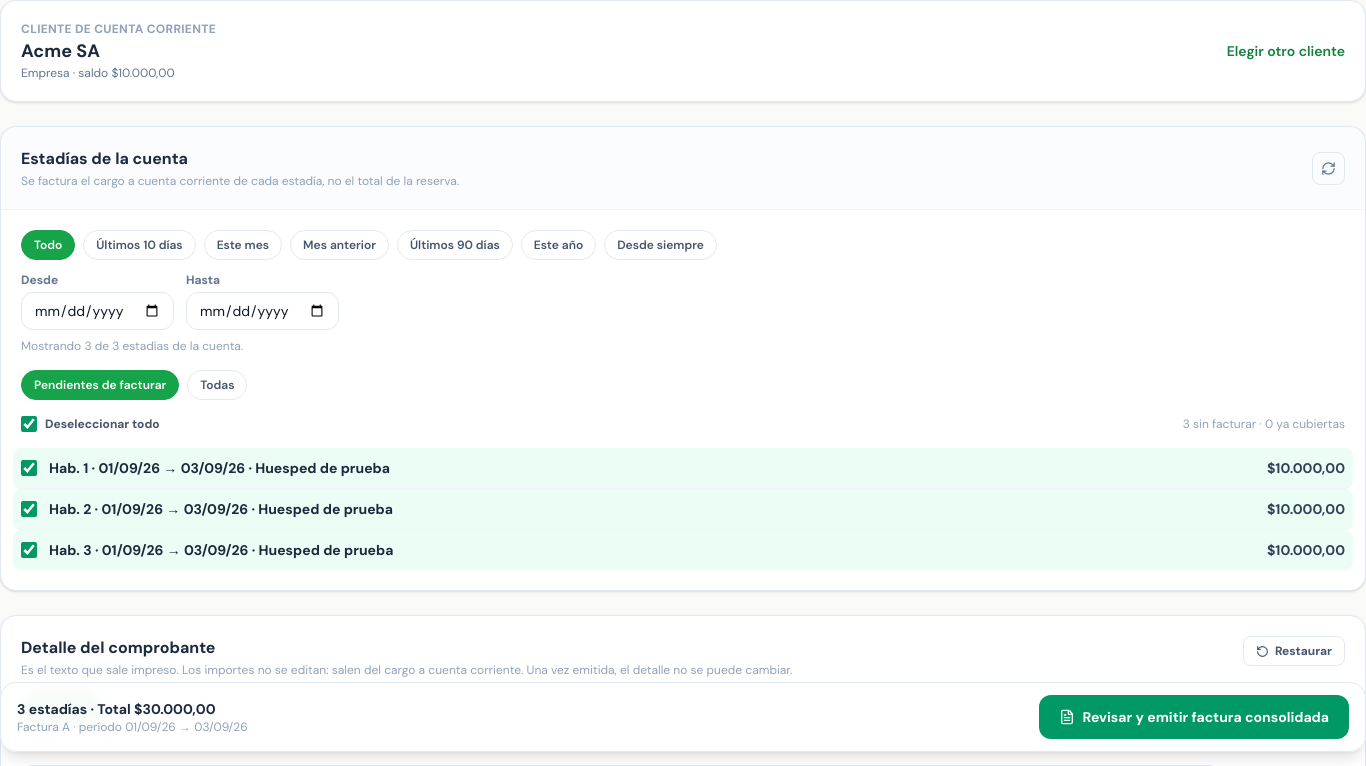
Test case: ConsolidadaClient › shift+click sobre el propio checkbox también extiende (mismo camino que el Espacio del teclado)
This screenshot has width=1366, height=766.
Expected: the checkbox named "Incluir estadía de habitación 1" is checked, [21,460,37,476]
Click the checkbox named "Seleccionar todas las estadías". click: [29, 424]
box: [21,416,37,432]
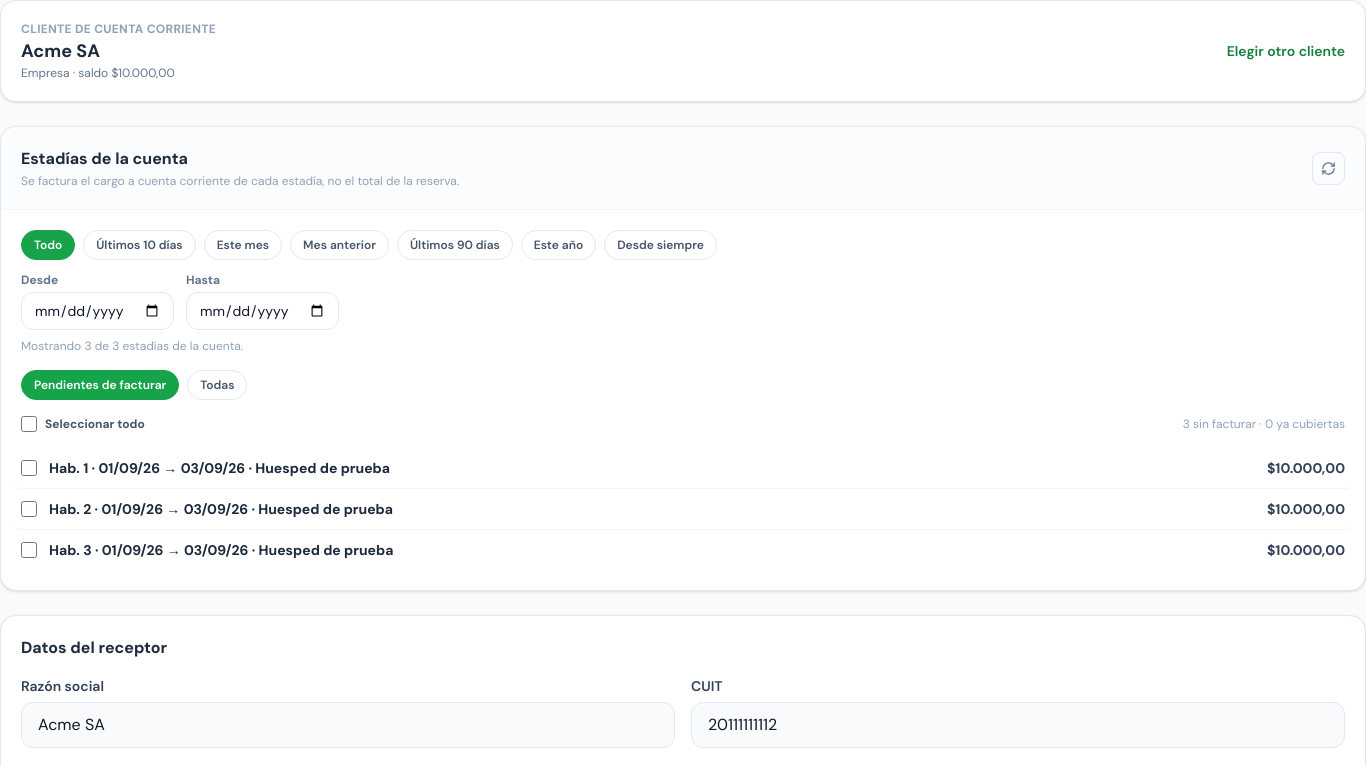
Click the checkbox named "Incluir estadía de habitación 1". click: [29, 468]
box: [21,460,37,476]
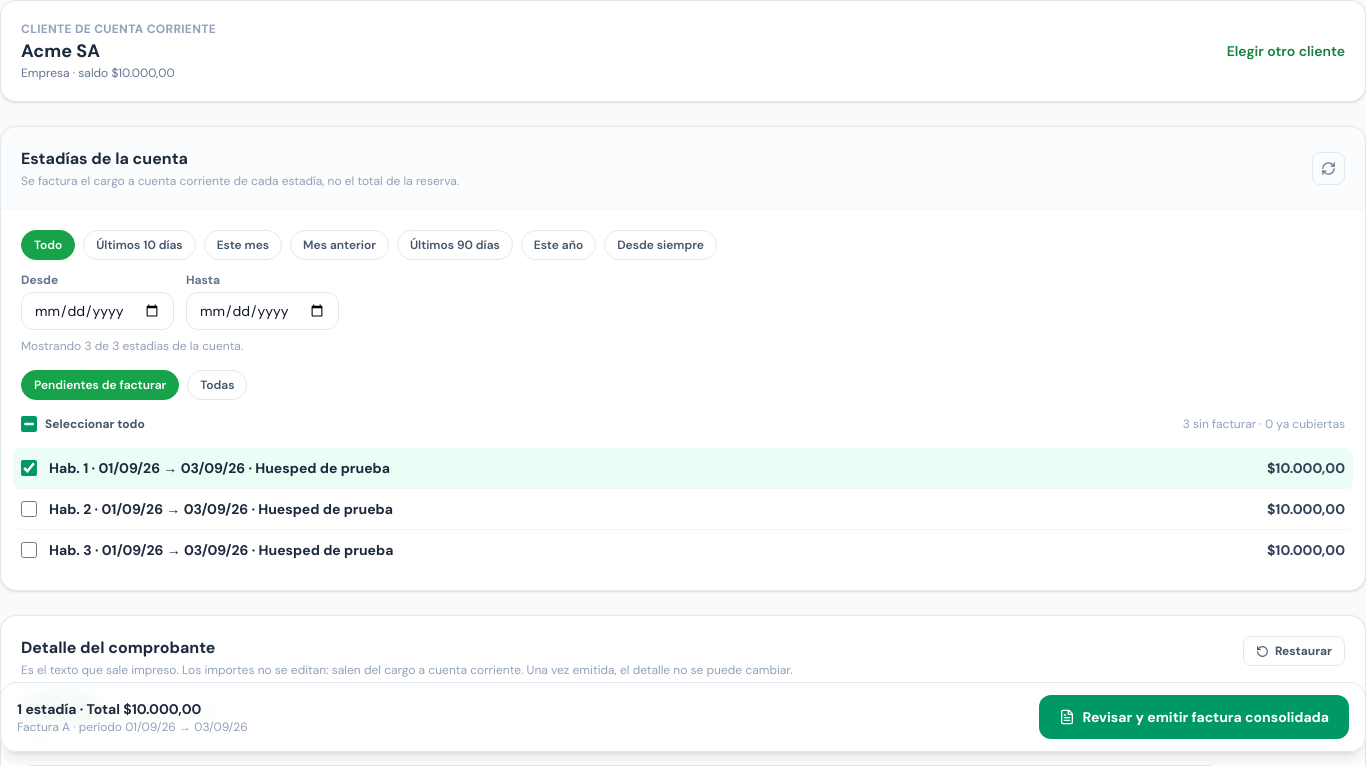
Click the checkbox named "Incluir estadía de habitación 3". click: [29, 550]
box: [21,542,37,558]
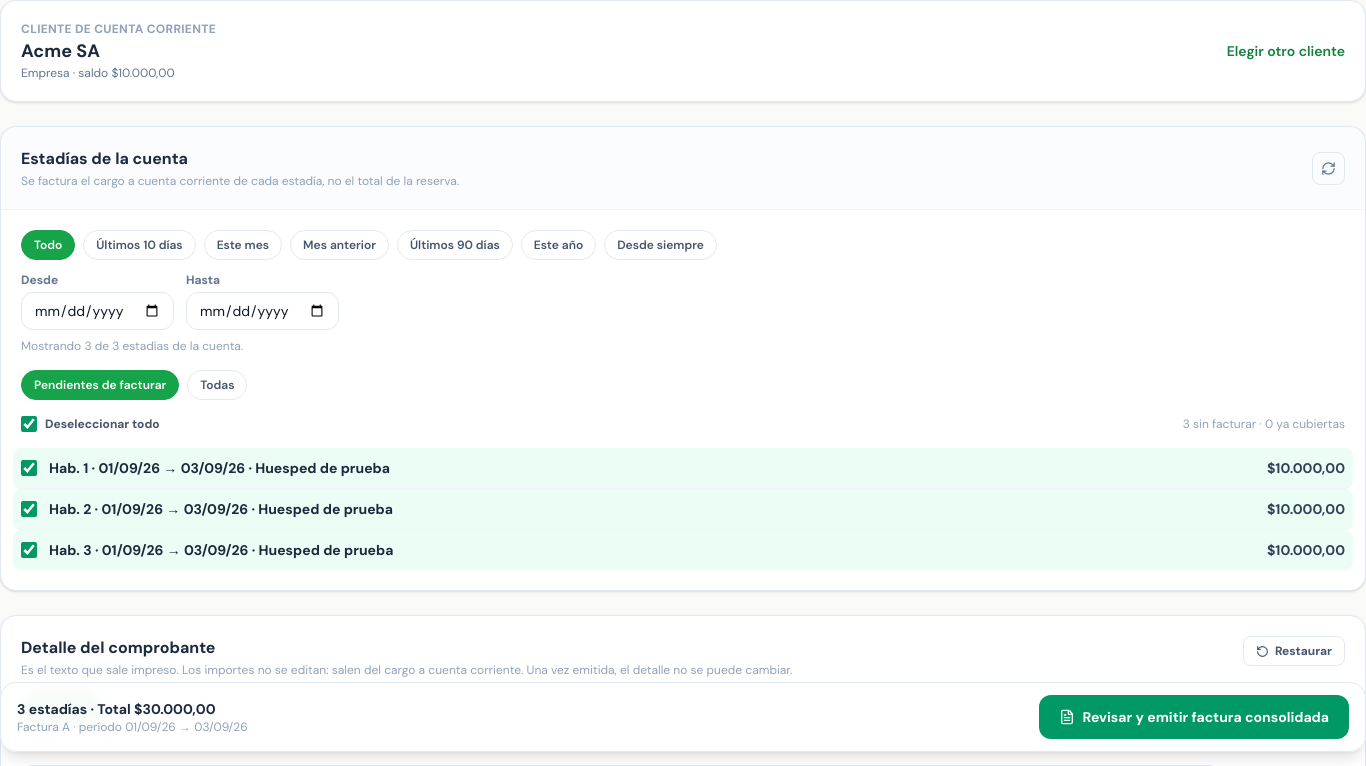
Expected: the checkbox named "Incluir estadía de habitación 1" is checked, [21,460,37,476]
Expected: the checkbox named "Incluir estadía de habitación 3" is checked, [21,542,37,558]
Expected: the checkbox named "Incluir estadía de habitación 2" is checked, [21,501,37,517]
